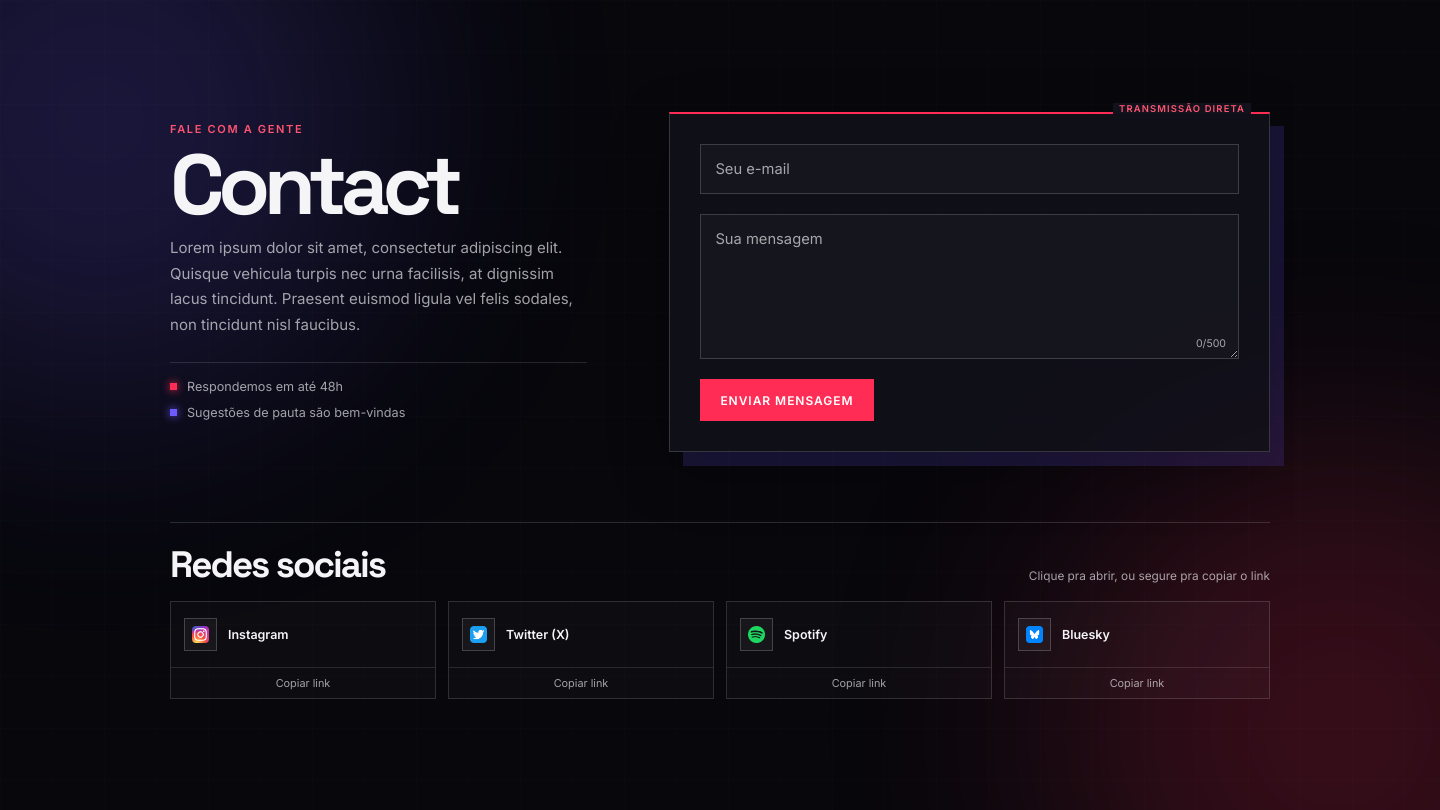
Test case: <Contact /> › mostra erro de validação ao submeter vazio
Click the button "Enviar mensagem".
click(787, 400)  # box [700, 379, 874, 421]
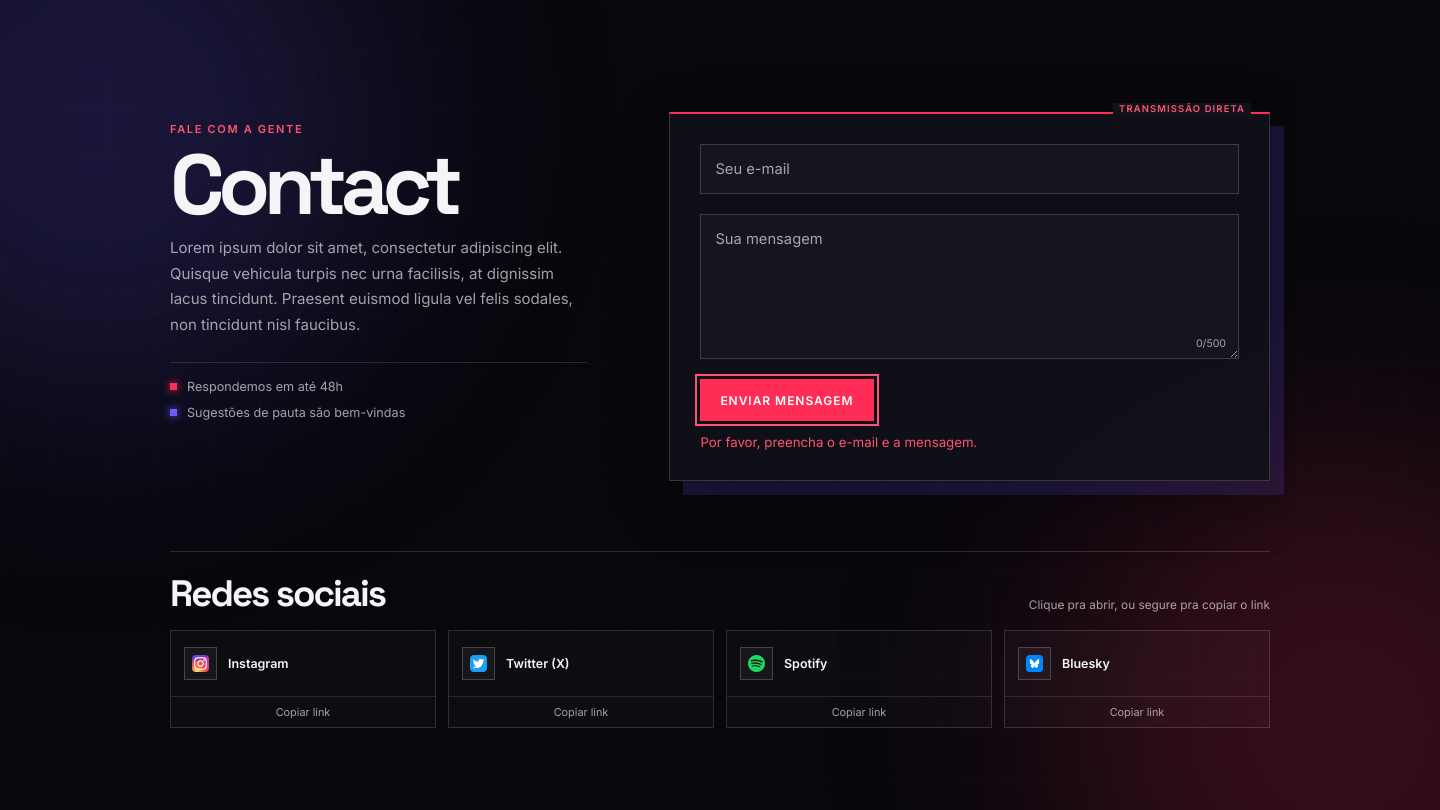
Now the text "Por favor, preencha o e-mail e a mensagem." is shown, box [700, 434, 978, 450]
